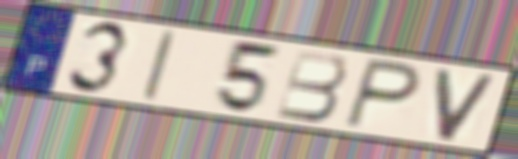3: (63, 21, 140, 97)
5: (214, 37, 282, 116)
B: (273, 47, 350, 124)
I: (138, 28, 180, 104)
P: (340, 55, 425, 132)
V: (433, 67, 500, 144)
